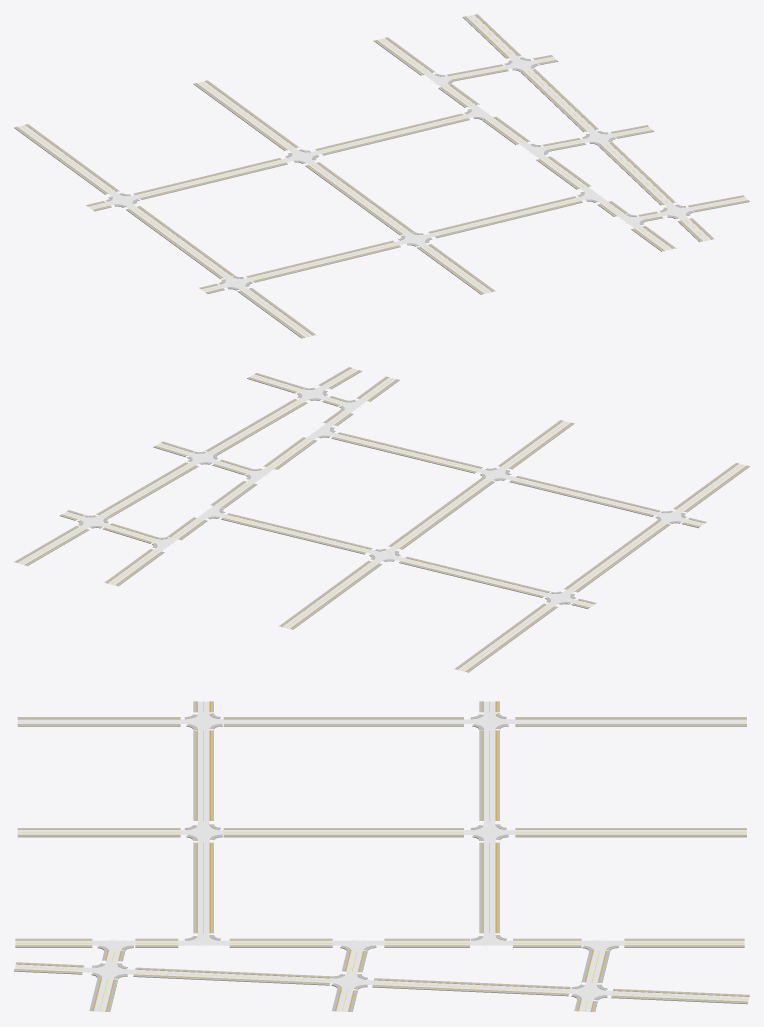
File: roads_-4_2.gltf
The picture shows the model from 3 angles, top to bottom: view 1: azimuth 30°, elevation 25°; view 2: azimuth 150°, elevation 25°; view 3: azimuth 270°, elevation 25°; orthographic projection. The views are drawn at different scales.
Visible parts, largest first — view 1: roads_-4_2_SH_wet_asphalt, roads_-4_2_SH_sidewalk, roads_-4_2_Road_Tactile_Strip, roads_-4_2_SH_kerb, roads_-4_2_SH_road_marking_white, roads_-4_2_SH_road_marking_yellow; view 2: roads_-4_2_SH_wet_asphalt, roads_-4_2_SH_sidewalk, roads_-4_2_Road_Tactile_Strip, roads_-4_2_SH_kerb, roads_-4_2_SH_road_marking_yellow, roads_-4_2_SH_road_marking_white; view 3: roads_-4_2_SH_wet_asphalt, roads_-4_2_SH_sidewalk, roads_-4_2_Road_Tactile_Strip, roads_-4_2_SH_kerb, roads_-4_2_SH_road_marking_yellow, roads_-4_2_SH_road_marking_white.
Part boxes in pixels (x1,y1,x2,y2): roads_-4_2_SH_wet_asphalt: [18, 15, 747, 337]; roads_-4_2_SH_sidewalk: [14, 14, 749, 338]; roads_-4_2_Road_Tactile_Strip: [17, 14, 748, 337]; roads_-4_2_SH_kerb: [17, 15, 748, 337]; roads_-4_2_SH_road_marking_white: [18, 17, 743, 336]; roads_-4_2_SH_road_marking_yellow: [22, 15, 745, 336]; roads_-4_2_SH_wet_asphalt: [17, 368, 746, 671]; roads_-4_2_SH_sidewalk: [14, 367, 749, 672]; roads_-4_2_Road_Tactile_Strip: [16, 367, 747, 671]; roads_-4_2_SH_kerb: [17, 368, 746, 671]; roads_-4_2_SH_road_marking_yellow: [21, 370, 742, 670]; roads_-4_2_SH_road_marking_white: [18, 368, 743, 670]; roads_-4_2_SH_wet_asphalt: [14, 701, 749, 1011]; roads_-4_2_SH_sidewalk: [14, 701, 749, 1011]; roads_-4_2_Road_Tactile_Strip: [14, 701, 749, 1011]; roads_-4_2_SH_kerb: [14, 701, 749, 1011]; roads_-4_2_SH_road_marking_yellow: [15, 701, 748, 1011]; roads_-4_2_SH_road_marking_white: [18, 702, 746, 1011].
Size of what is drawn, in the model's own units: 514 by 0.506 by 515.
